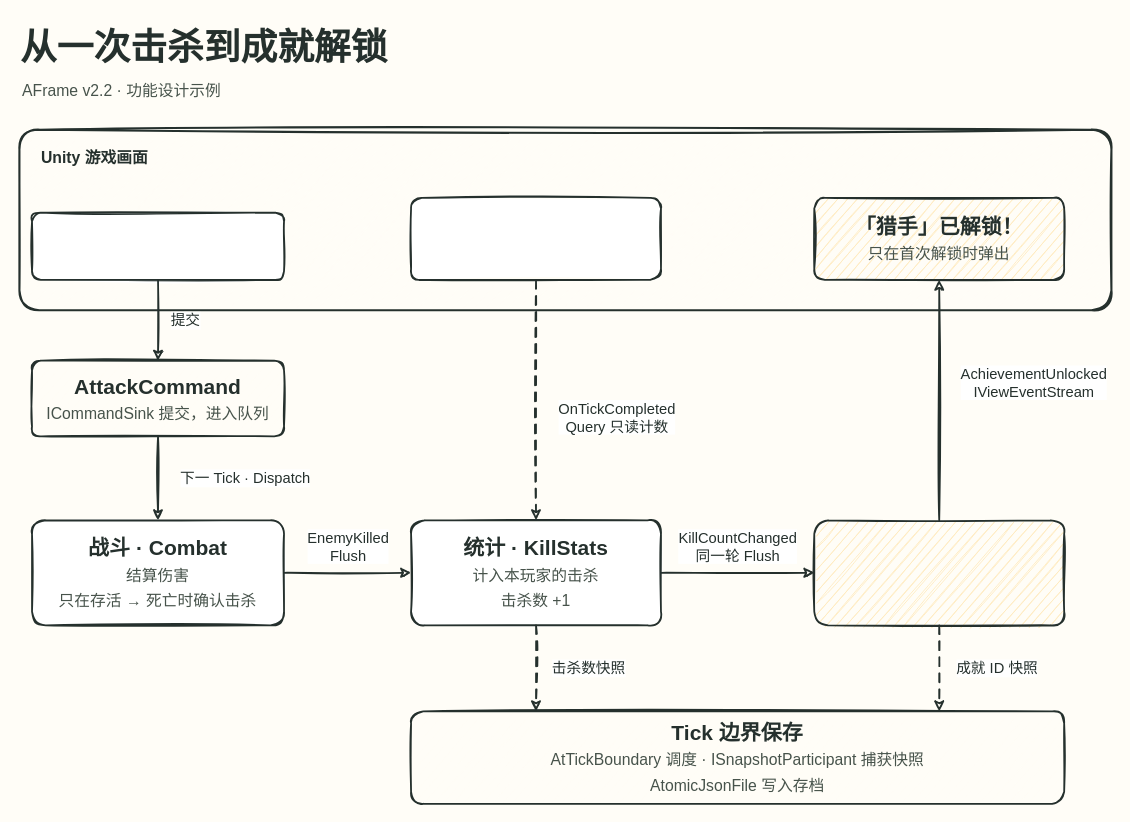
Image size: 1130x822. Some labels were removed from this diagram. Each missing label, with the centre of its shape:
"击杀数 10（+1） 每 Tick 读取最新计数" goes at point 535,238.
"成就 · Achievements 达到 10 次且此前未解锁 记录已解锁的成就 ID" goes at point 939,572.
"玩家按下攻击" goes at point 157,245.
